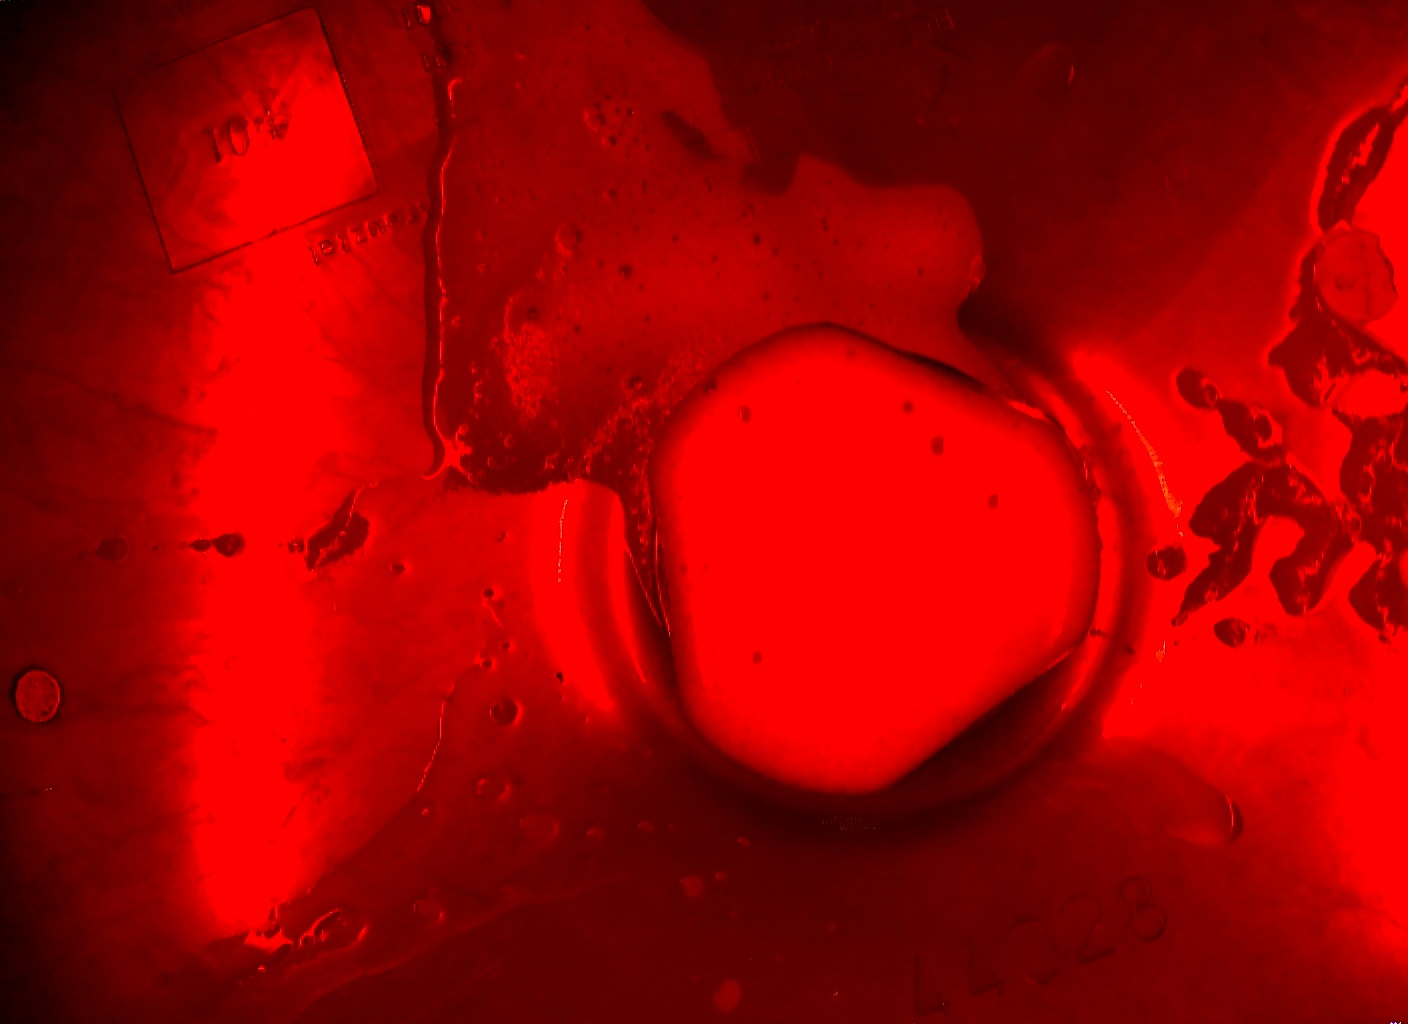pena: (413, 9, 647, 495), (654, 26, 979, 336)
shapka: (642, 323, 1105, 810)
